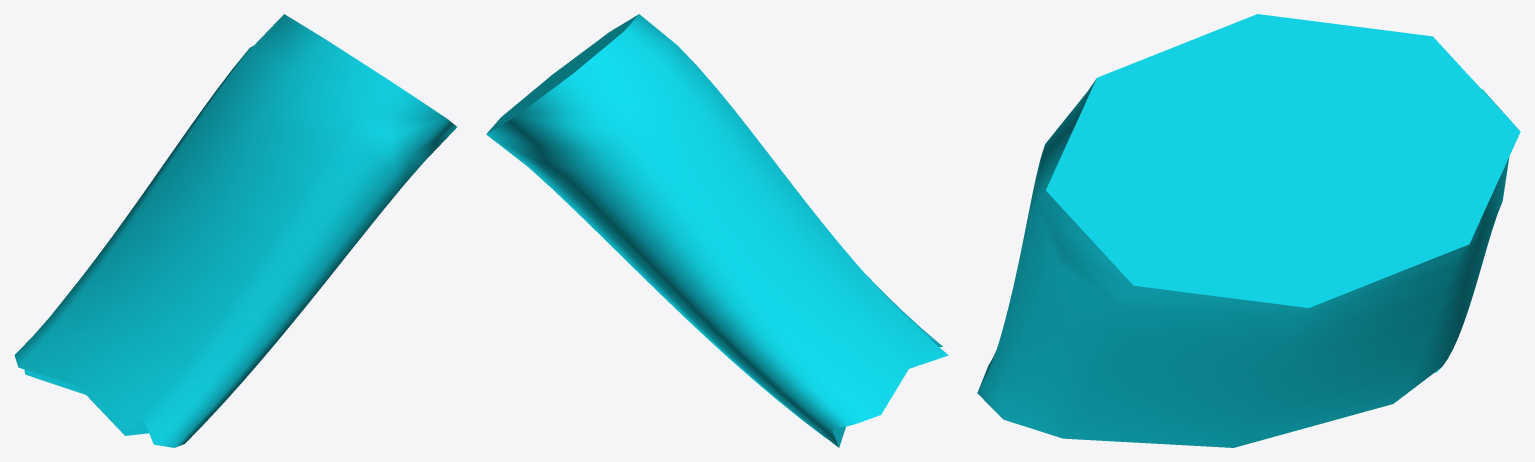
File: octopusLeg.fbx
The picture shows the model from 3 angles, left to right: view 1: azimuth 30°, elevation 25°; view 2: azimuth 150°, elevation 25°; view 3: azimuth 270°, elevation 25°; orthographic projection. The views are drawn at different scales.
Visible parts, largest first — view 1: octopusLeg; view 2: octopusLeg; view 3: octopusLeg.
Boxes of the visible parts, x1,y1,x2,y2 form: octopusLeg: (14, 14, 456, 447); octopusLeg: (486, 14, 948, 447); octopusLeg: (977, 14, 1520, 447).
Bounding box in the file's own units: 10.11 × 8.03 × 6.36.
Materials: 1 (1 with a texture image).
